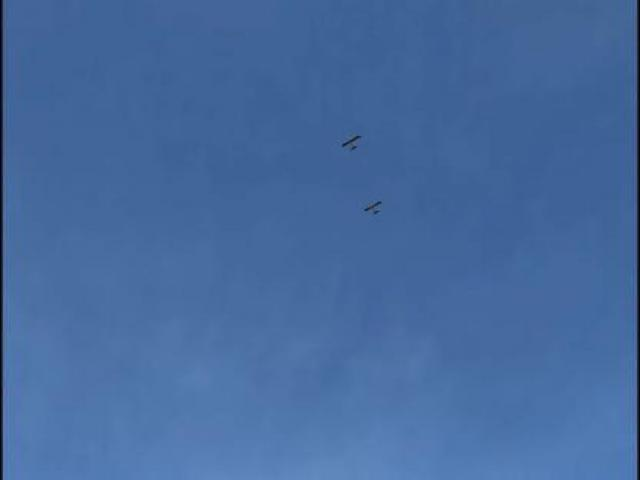uav: (340, 130, 360, 154), (365, 199, 383, 218)
